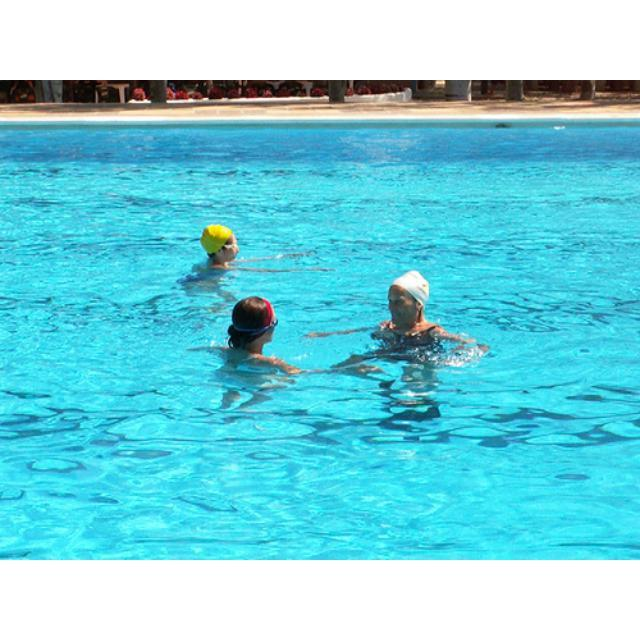human: (329, 272, 478, 365), (217, 293, 301, 381), (195, 223, 275, 276)
